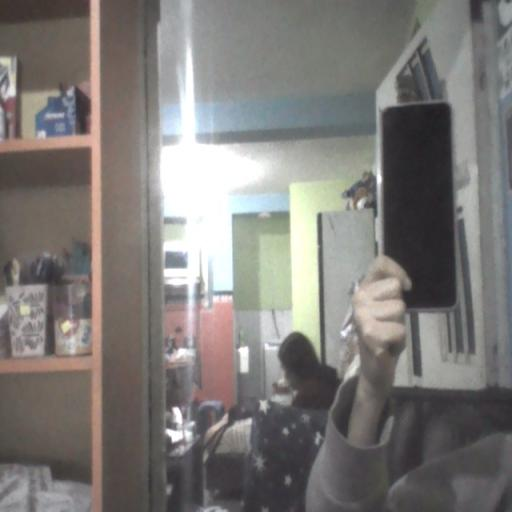phone: (372, 95, 462, 313)
